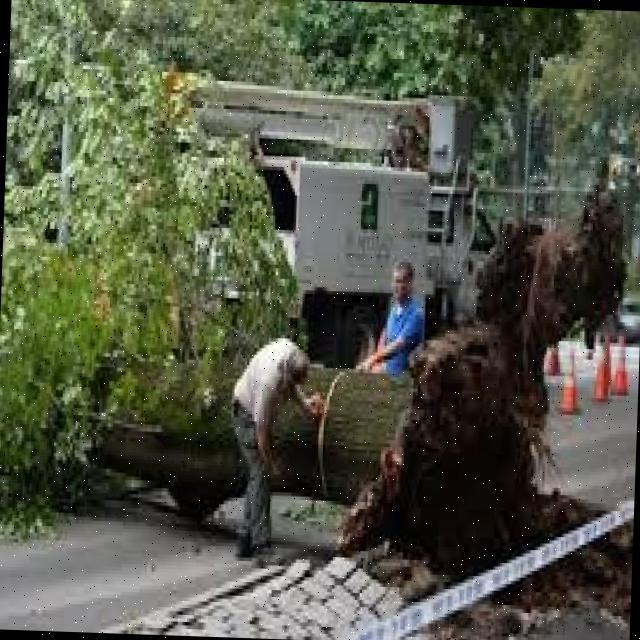fallen_object: (11, 194, 620, 582)
